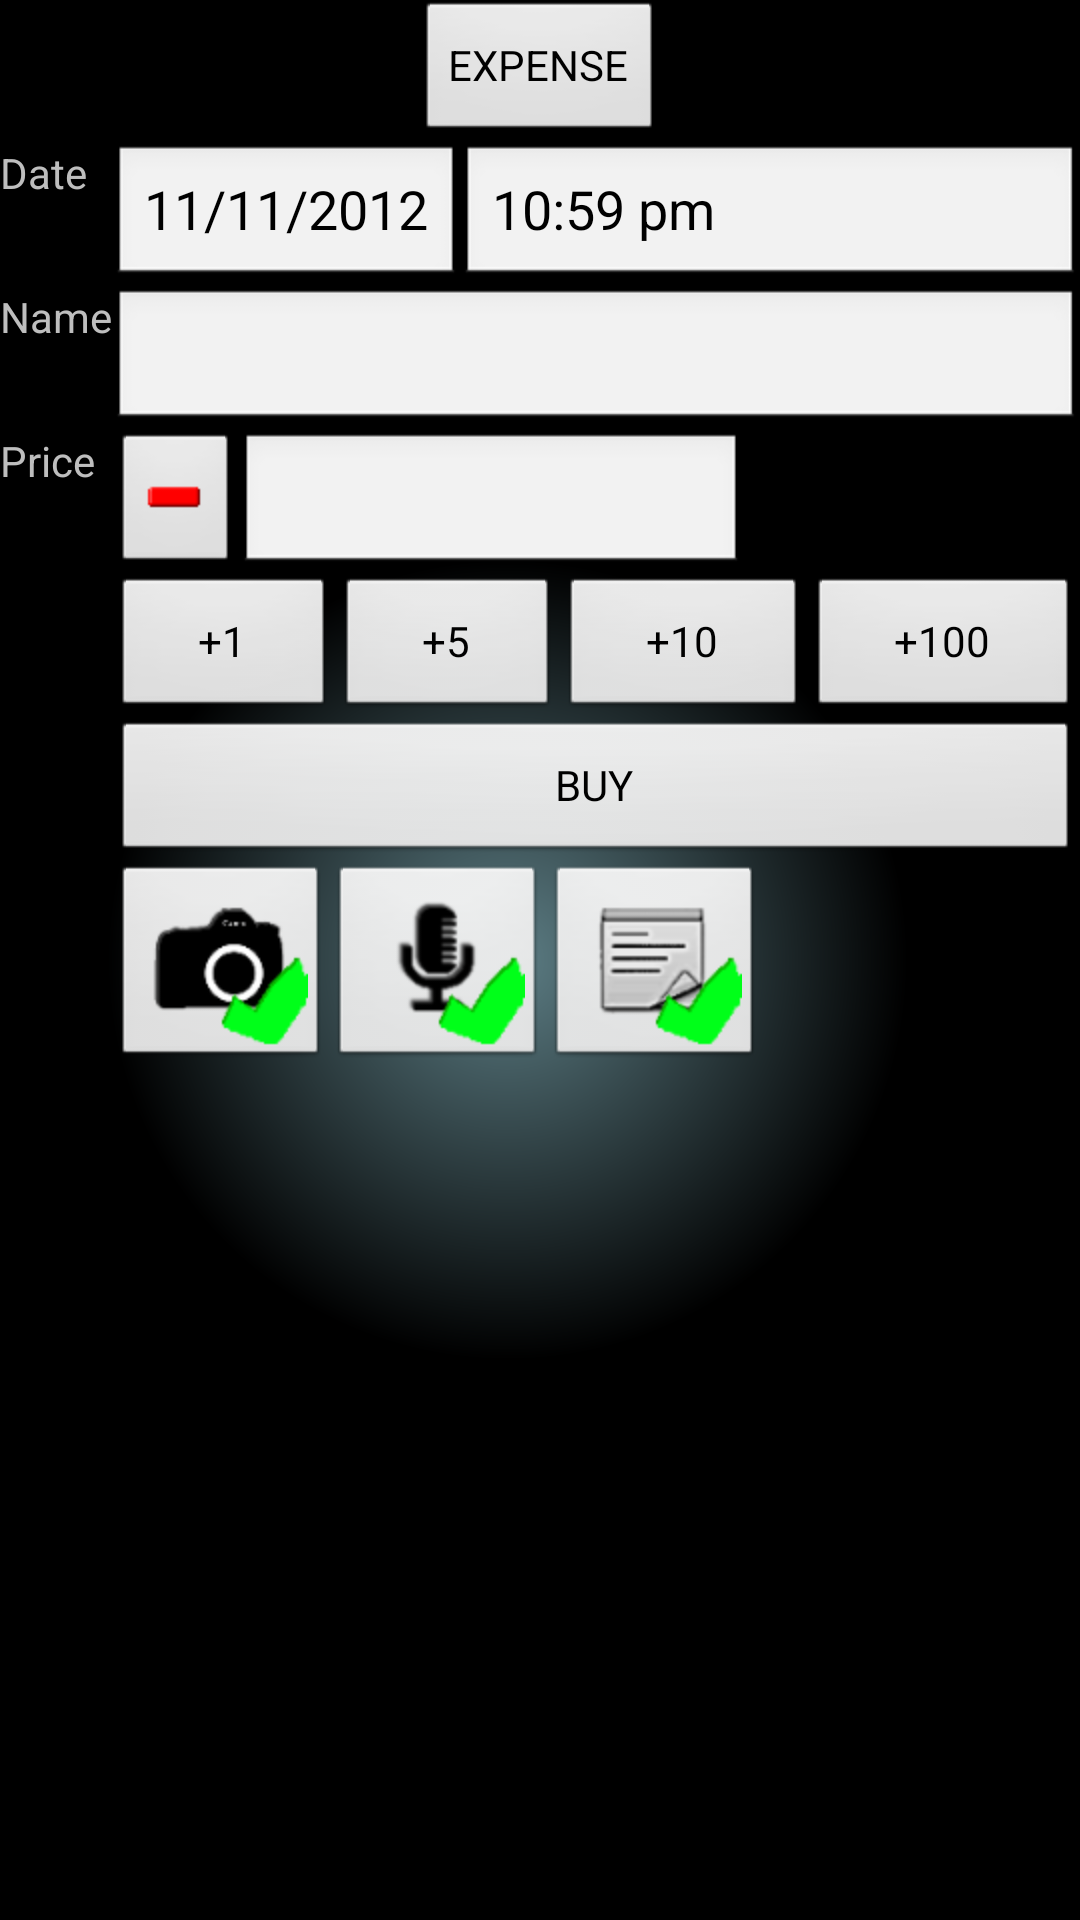

Point at icon controls on the screen. Image size 1080px×1920px, points as (x=x, y=y).
minusncon: (x=175, y=497)
